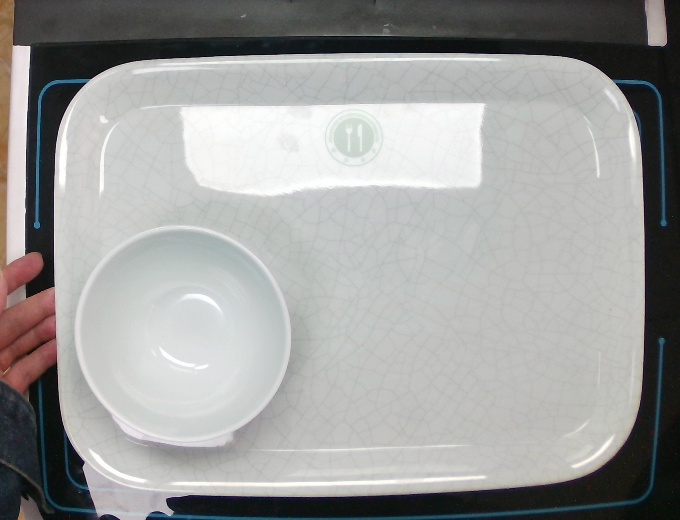JYsf-Fan_Wan: (72, 223, 294, 444)
